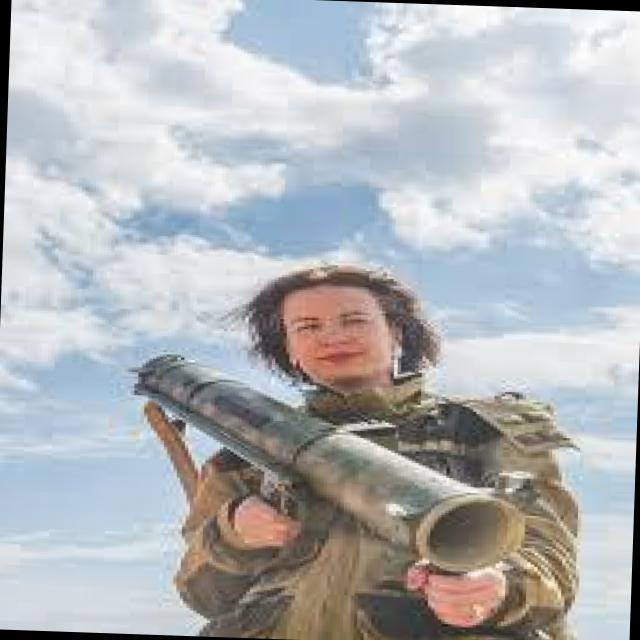rocket: (126, 347, 525, 572)
